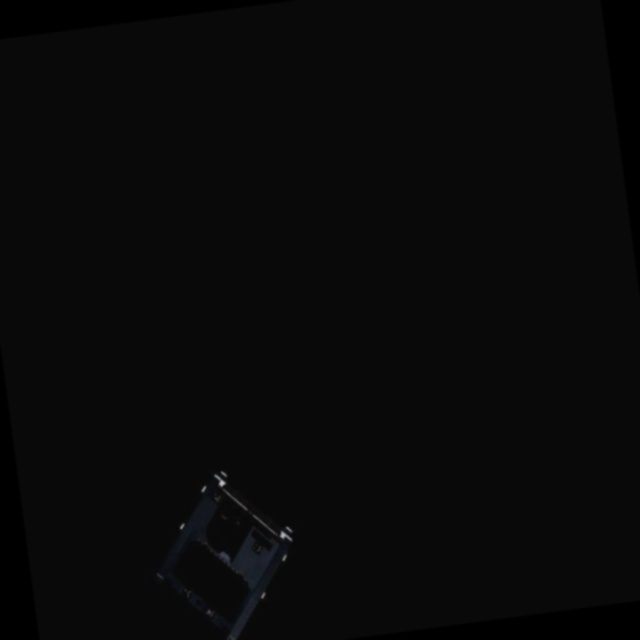satellite: (140, 457, 306, 640)
